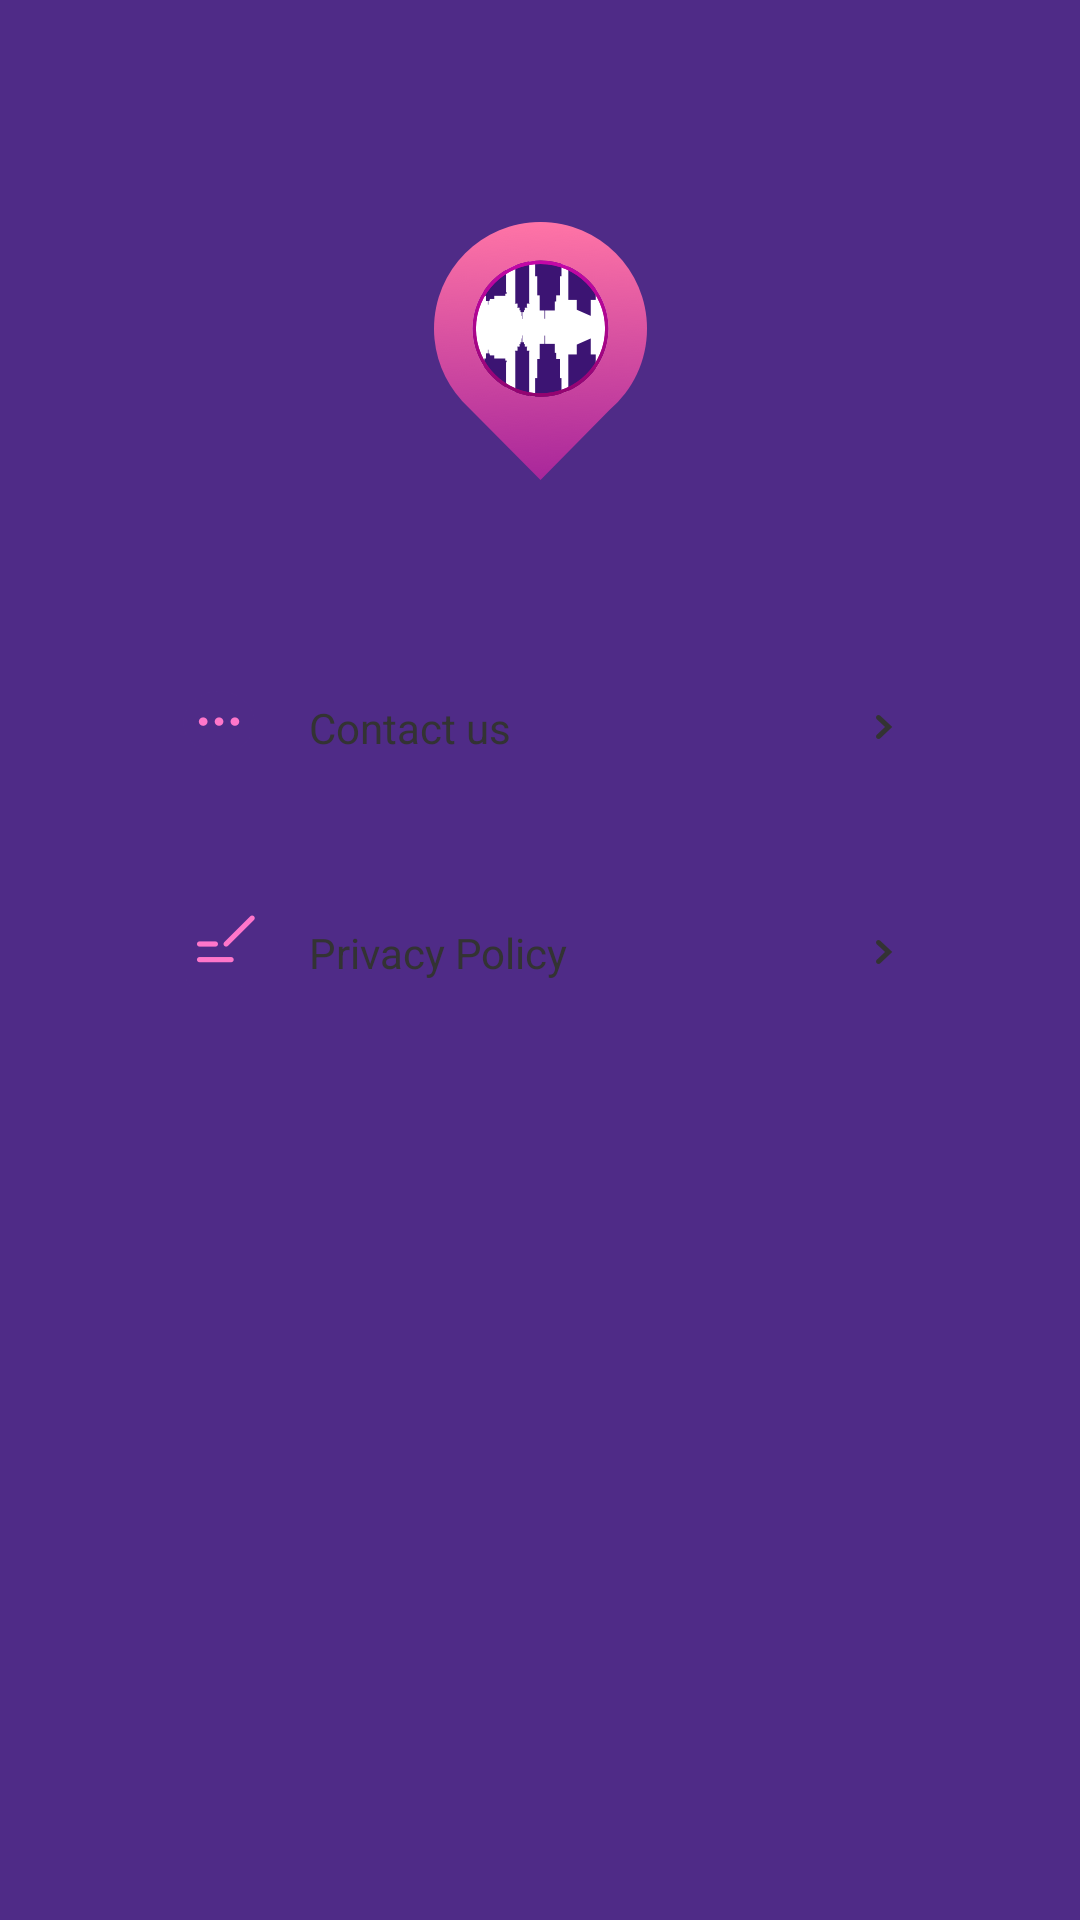

Icon click points for this 1080w x 1920h phone screenshot, format (x=x, y=y):
right: (x=884, y=727), (x=884, y=952)
